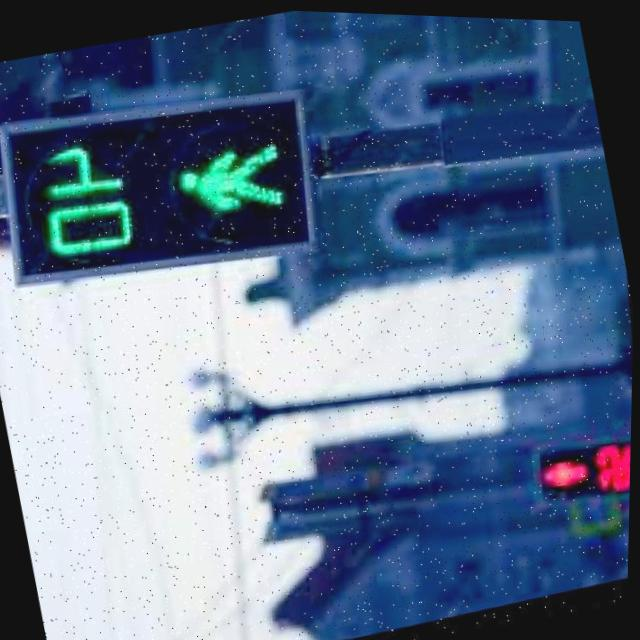green_light: (6, 71, 322, 301)
red_light: (535, 428, 633, 512)
